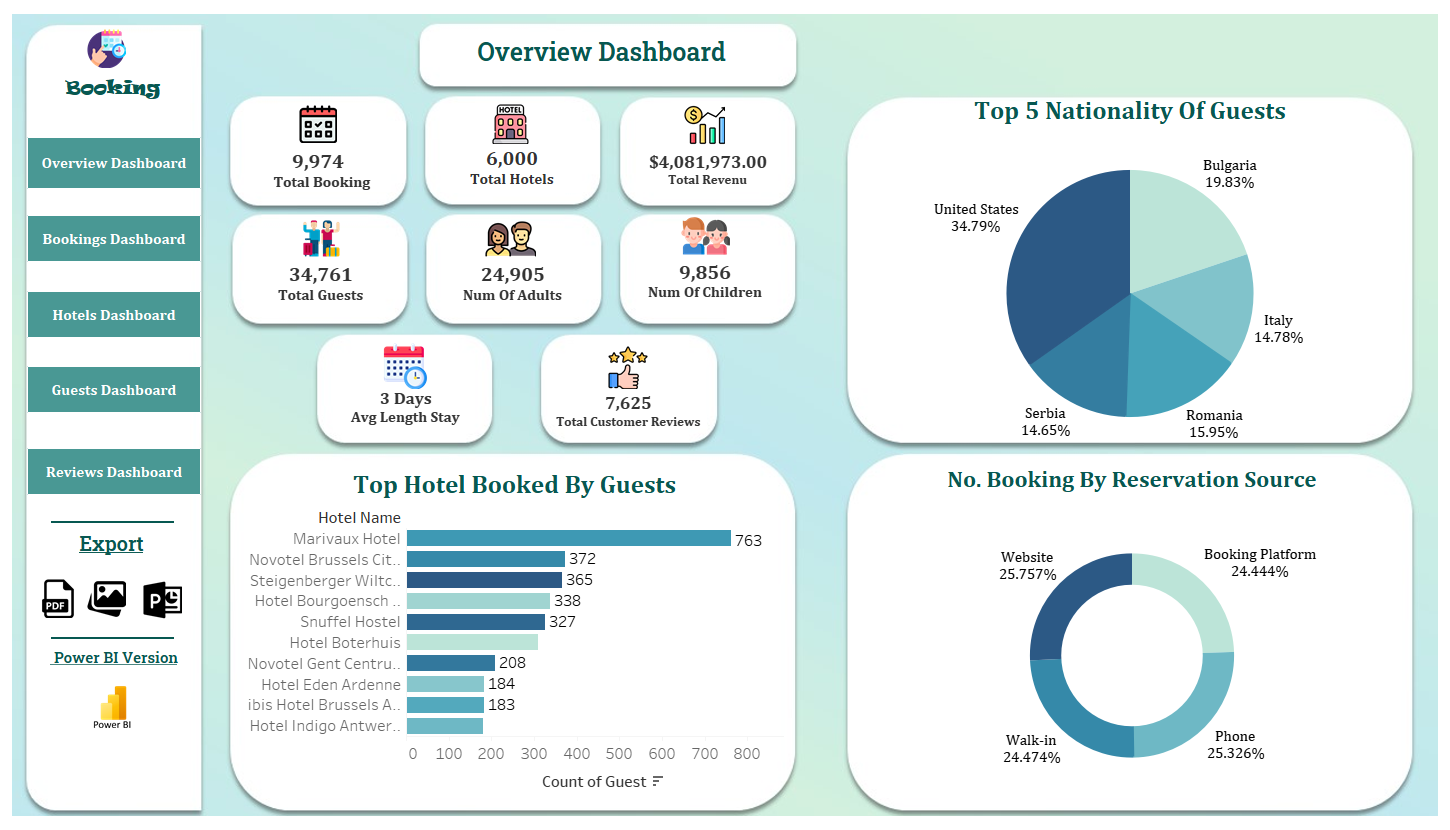

This screenshot's page, from the dashboard's own definition file:
{"tool":"tableau","page":{"name":"Overview Dashboard","canvas":[1450,830],"ordinal":3},"visuals":[{"type":"image","param":"Image/OverView.jpg","box":[8,8,1434,814]},{"type":"image","param":"Image/choose.png","box":[87,29,47,39]},{"type":"text","box":[474,34,273,34]},{"type":"text","box":[62,72,100,30]},{"type":"worksheet","title":"Top 5 nationality( Guest) (3)","mark":"Pie","box":[848,89,564,364]},{"type":"image","param":"Image/hotel.png","box":[490,104,41,40]},{"type":"image","param":"Image/revenue.png","box":[684,104,43,41]},{"type":"image","param":"Image/booking.png","box":[299,105,38,43]},{"type":"worksheet","title":"Total Amount over Bookings (Booking) (2)","mark":"Automatic","box":[625,113,167,94]},{"type":"worksheet","title":"No. Hotels (Hotel) (2)","mark":"Automatic","box":[445,123,135,69]},{"type":"worksheet","title":"No. Booking (Booking) (2)","mark":"Automatic","box":[253,129,132,63]},{"type":"dashboard-object","box":[27,137,174,52]},{"type":"image","param":"Image/children.png","box":[681,211,52,49]},{"type":"worksheet","title":"Total Children(Booking) (2)","mark":"Automatic","box":[634,212,143,118]},{"type":"image","param":"Image/couple.png","box":[485,213,54,51]},{"type":"image","param":"Image/guests.png","box":[297,214,48,49]},{"type":"dashboard-object","box":[27,215,174,47]},{"type":"worksheet","title":"No. Guests (Guest) (2)","mark":"Automatic","box":[251,231,140,85]},{"type":"worksheet","title":"Total Audlts (Booking) (2)","mark":"Automatic","box":[432,234,162,79]},{"type":"dashboard-object","box":[27,291,174,47]},{"type":"image","param":"Image/schedule.png","box":[382,343,46,47]},{"type":"image","param":"Image/rating.png","box":[606,346,44,43]},{"type":"worksheet","title":"sum of total night (Booking) (2)","mark":"Automatic","box":[336,363,140,69]},{"type":"dashboard-object","box":[27,366,174,47]},{"type":"worksheet","title":"No. Reviews (Review) (2)","mark":"Automatic","box":[535,366,188,71]},{"type":"dashboard-object","box":[27,448,174,47]},{"type":"worksheet","title":"No. Booking By Reservation Source ","mark":"Pie","rows":["Calculation_673288202718617603","Calculation_673288202718617603"],"box":[858,459,548,351]},{"type":"worksheet","title":"Top Hotel Booked By Guests ","mark":"Automatic","rows":["hotel_name"],"cols":["Guest_id_BK"],"box":[246,463,537,336]},{"type":"blank","box":[51,521,123,2]},{"type":"text","box":[76,527,92,34]},{"type":"dashboard-object","box":[69,579,76,39]},{"type":"dashboard-object","box":[117,580,91,39]},{"type":"blank","box":[51,637,123,2]},{"type":"text","box":[47,645,144,25]},{"type":"image","param":"Image/Microsoft-Power-BI-Symbol.png","box":[74,685,77,62]}]}

Visuals, with their boxes in screenshot pixels (x1, y1, x2, y2), scaled from the page's 1450x830 canvas onto the 1450x830 screenshot:
image: Rect(8, 8, 1442, 822)
image: Rect(87, 29, 134, 68)
text: Rect(474, 34, 747, 68)
text: Rect(62, 72, 162, 102)
"Top 5 nationality( Guest) (3)" worksheet (Pie marks): Rect(848, 89, 1412, 453)
image: Rect(490, 104, 531, 144)
image: Rect(684, 104, 727, 145)
image: Rect(299, 105, 337, 148)
"Total Amount over Bookings (Booking) (2)" worksheet: Rect(625, 113, 792, 207)
"No. Hotels (Hotel) (2)" worksheet: Rect(445, 123, 580, 192)
"No. Booking (Booking) (2)" worksheet: Rect(253, 129, 385, 192)
dashboard-object: Rect(27, 137, 201, 189)
image: Rect(681, 211, 733, 260)
"Total Children(Booking) (2)" worksheet: Rect(634, 212, 777, 330)
image: Rect(485, 213, 539, 264)
image: Rect(297, 214, 345, 263)
dashboard-object: Rect(27, 215, 201, 262)
"No. Guests (Guest) (2)" worksheet: Rect(251, 231, 391, 316)
"Total Audlts (Booking) (2)" worksheet: Rect(432, 234, 594, 313)
dashboard-object: Rect(27, 291, 201, 338)
image: Rect(382, 343, 428, 390)
image: Rect(606, 346, 650, 389)
"sum of total night (Booking) (2)" worksheet: Rect(336, 363, 476, 432)
dashboard-object: Rect(27, 366, 201, 413)
"No. Reviews (Review) (2)" worksheet: Rect(535, 366, 723, 437)
dashboard-object: Rect(27, 448, 201, 495)
"No. Booking By Reservation Source " worksheet (Pie marks): Rect(858, 459, 1406, 810)
"Top Hotel Booked By Guests " worksheet: Rect(246, 463, 783, 799)
blank: Rect(51, 521, 174, 523)
text: Rect(76, 527, 168, 561)
dashboard-object: Rect(69, 579, 145, 618)
dashboard-object: Rect(117, 580, 208, 619)
blank: Rect(51, 637, 174, 639)
text: Rect(47, 645, 191, 670)
image: Rect(74, 685, 151, 747)
